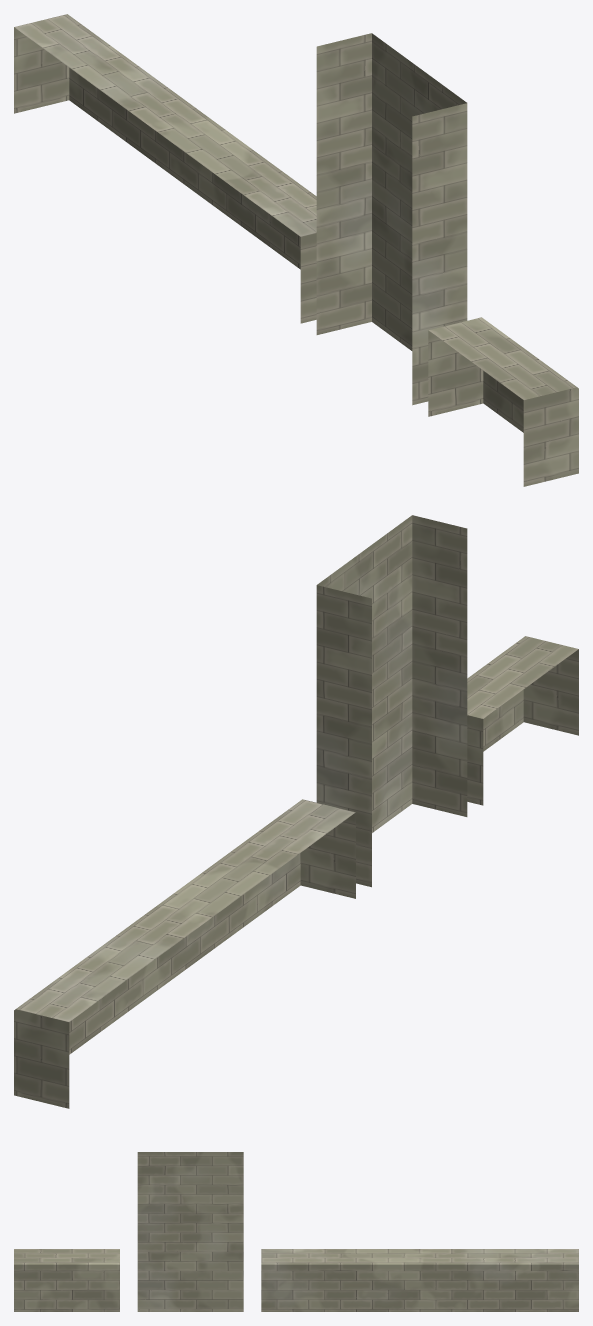
File: Tiles1.fbx
3 views of the same model, one above another, from view 1: azimuth 30°, elevation 25°; view 2: azimuth 150°, elevation 25°; view 3: azimuth 270°, elevation 25° (orthographic). The views are drawn at different scales.
Visible parts, largest first — view 1: bricks_largeWide, bricks_tall_R, bricks_tall_L, bricks_tall, bricks_mediumWide, bricks_mediumWide_L, bricks_mediumWide_R, bricks_largeWide_R, bricks_largeWide_L; view 2: bricks_largeWide, bricks_tall_L, bricks_tall, bricks_tall_R, bricks_mediumWide, bricks_largeWide_R, bricks_largeWide_L, bricks_mediumWide_L, bricks_mediumWide_R; view 3: bricks_largeWide, bricks_tall, bricks_mediumWide.
Part boxes in pixels (bbox=[...]): bricks_largeWide: bbox=[14, 14, 316, 269]; bricks_tall_R: bbox=[316, 33, 371, 334]; bricks_tall_L: bbox=[412, 103, 467, 405]; bricks_tall: bbox=[372, 33, 466, 350]; bricks_mediumWide: bbox=[428, 317, 576, 432]; bricks_mediumWide_L: bbox=[523, 387, 578, 486]; bricks_mediumWide_R: bbox=[428, 330, 483, 416]; bricks_largeWide_R: bbox=[14, 27, 69, 113]; bricks_largeWide_L: bbox=[300, 233, 316, 323]; bricks_largeWide: bbox=[16, 799, 355, 1054]; bricks_tall_L: bbox=[412, 515, 467, 816]; bricks_tall: bbox=[317, 515, 412, 832]; bricks_tall_R: bbox=[316, 585, 371, 887]; bricks_mediumWide: bbox=[467, 636, 578, 751]; bricks_largeWide_R: bbox=[14, 1009, 69, 1108]; bricks_largeWide_L: bbox=[300, 812, 355, 898]; bricks_mediumWide_L: bbox=[523, 649, 578, 735]; bricks_mediumWide_R: bbox=[467, 715, 483, 805]; bricks_largeWide: bbox=[261, 1249, 578, 1311]; bricks_tall: bbox=[137, 1152, 243, 1311]; bricks_mediumWide: bbox=[14, 1249, 119, 1311].
Size of the model in its own units: 10 by 50 by 160.
Materials: 2 (2 with a texture image).
